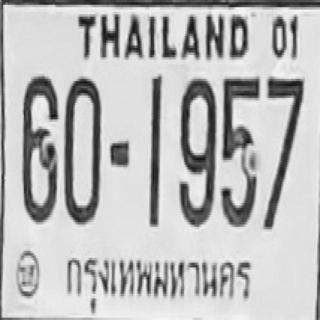N00: (64, 75, 101, 223)
N01: (149, 73, 161, 226), (149, 74, 161, 225)
N05: (220, 75, 260, 226)
N06: (22, 74, 58, 222)
N07: (263, 75, 303, 228)
N09: (178, 76, 216, 225)
P04: (59, 246, 255, 313)
